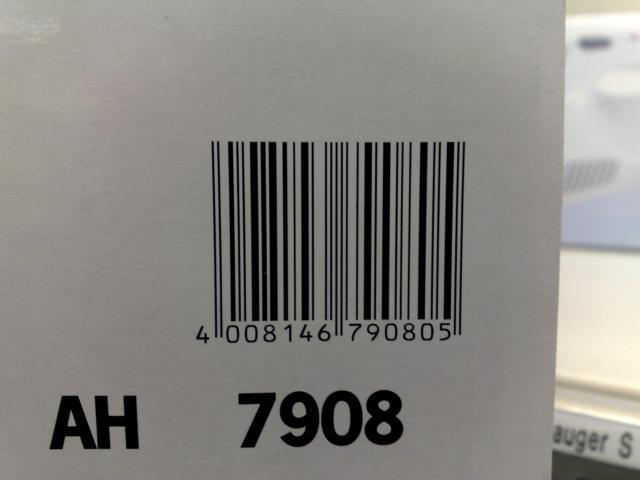Barcode: (175, 127, 491, 357)
